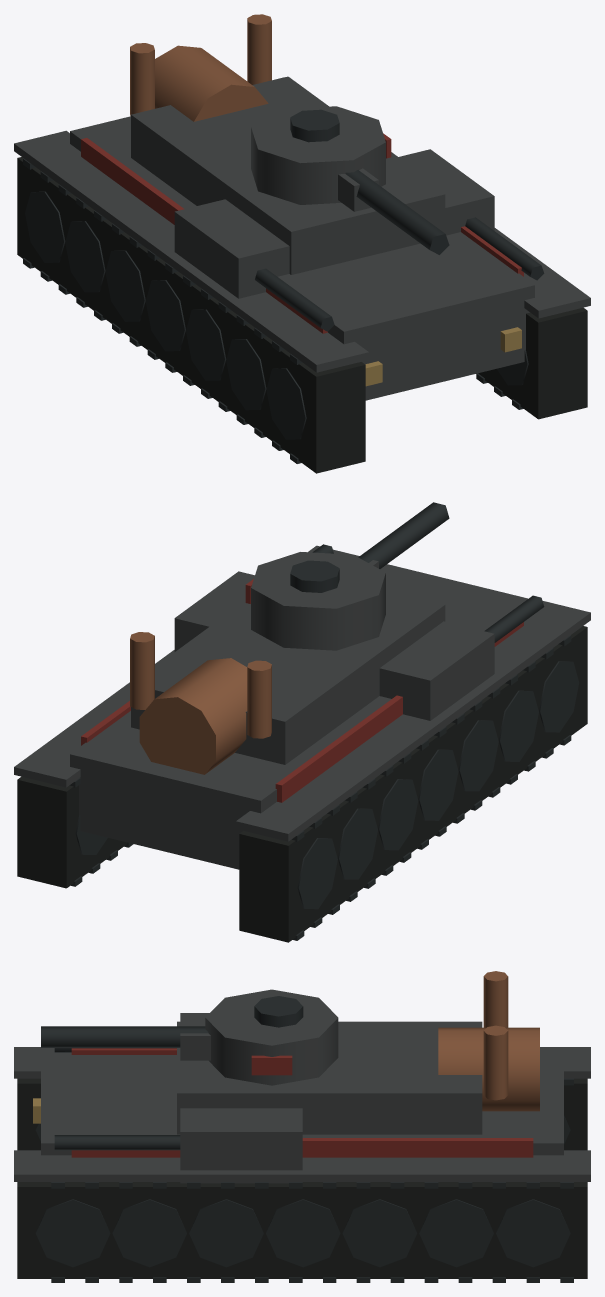
The model's file is landship.glb.
The picture shows the model from 3 angles, top to bottom: view 1: azimuth 30°, elevation 25°; view 2: azimuth 150°, elevation 25°; view 3: azimuth 270°, elevation 25°; orthographic projection. The views are drawn at different scales.
Parts seen in each view (by area): view 1: body, heavy_turret; view 2: body, heavy_turret; view 3: body, heavy_turret.
Part boxes in pixels (left/top/right/bottom): body: left=14, top=14, right=590, bottom=473; heavy_turret: left=251, top=106, right=449, bottom=254; body: left=14, top=544, right=590, bottom=942; heavy_turret: left=245, top=502, right=449, bottom=650; body: left=14, top=971, right=590, bottom=1282; heavy_turret: left=41, top=989, right=338, bottom=1085.
Size of the model in its own units: 4.45 by 3.51 by 8.5.
